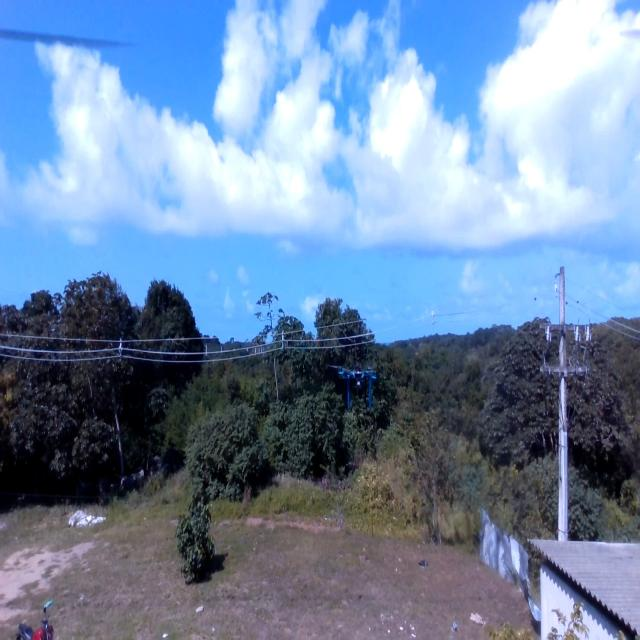-uav-: (332, 339, 380, 437)
